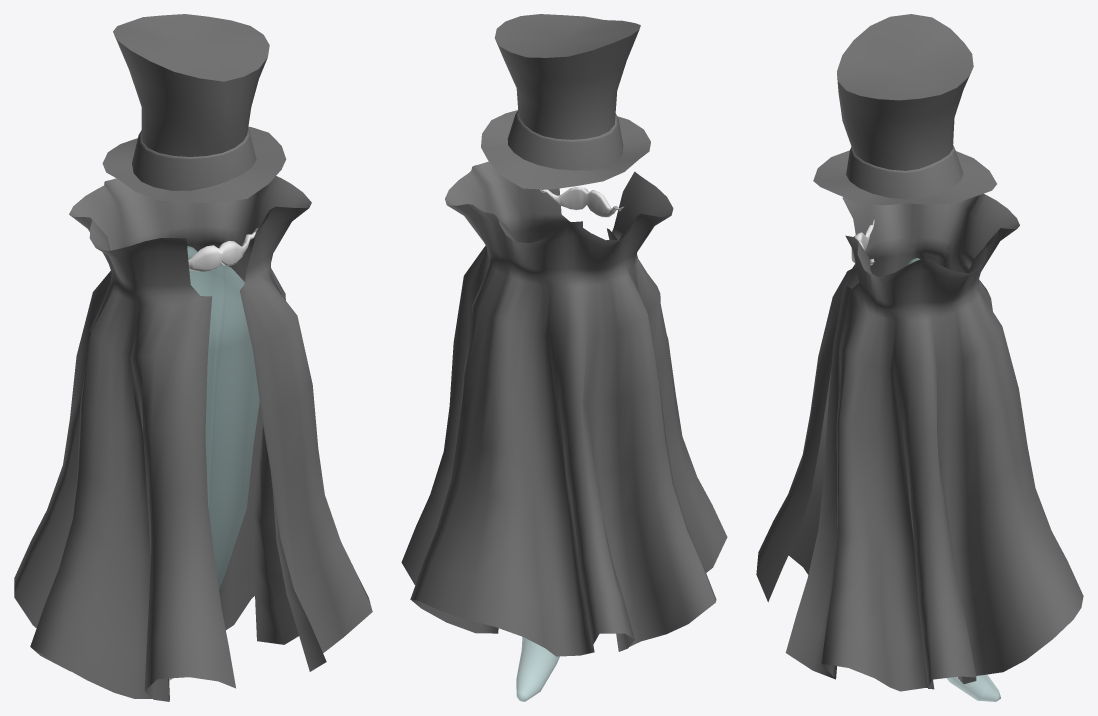
Rendered from Boouregard.fbx.
The picture shows the model from 3 angles, left to right: view 1: azimuth 30°, elevation 25°; view 2: azimuth 150°, elevation 25°; view 3: azimuth 270°, elevation 25°; orthographic projection. The views are drawn at different scales.
Parts seen in each view (by area): view 1: Boouregard; view 2: Boouregard; view 3: Boouregard.
Boxes of the visible parts, x1,y1,x2,y2 form: Boouregard: [14, 14, 372, 701]; Boouregard: [401, 14, 727, 701]; Boouregard: [756, 14, 1083, 701].
Size of the model in its own units: 3.41 by 7.17 by 3.24.
